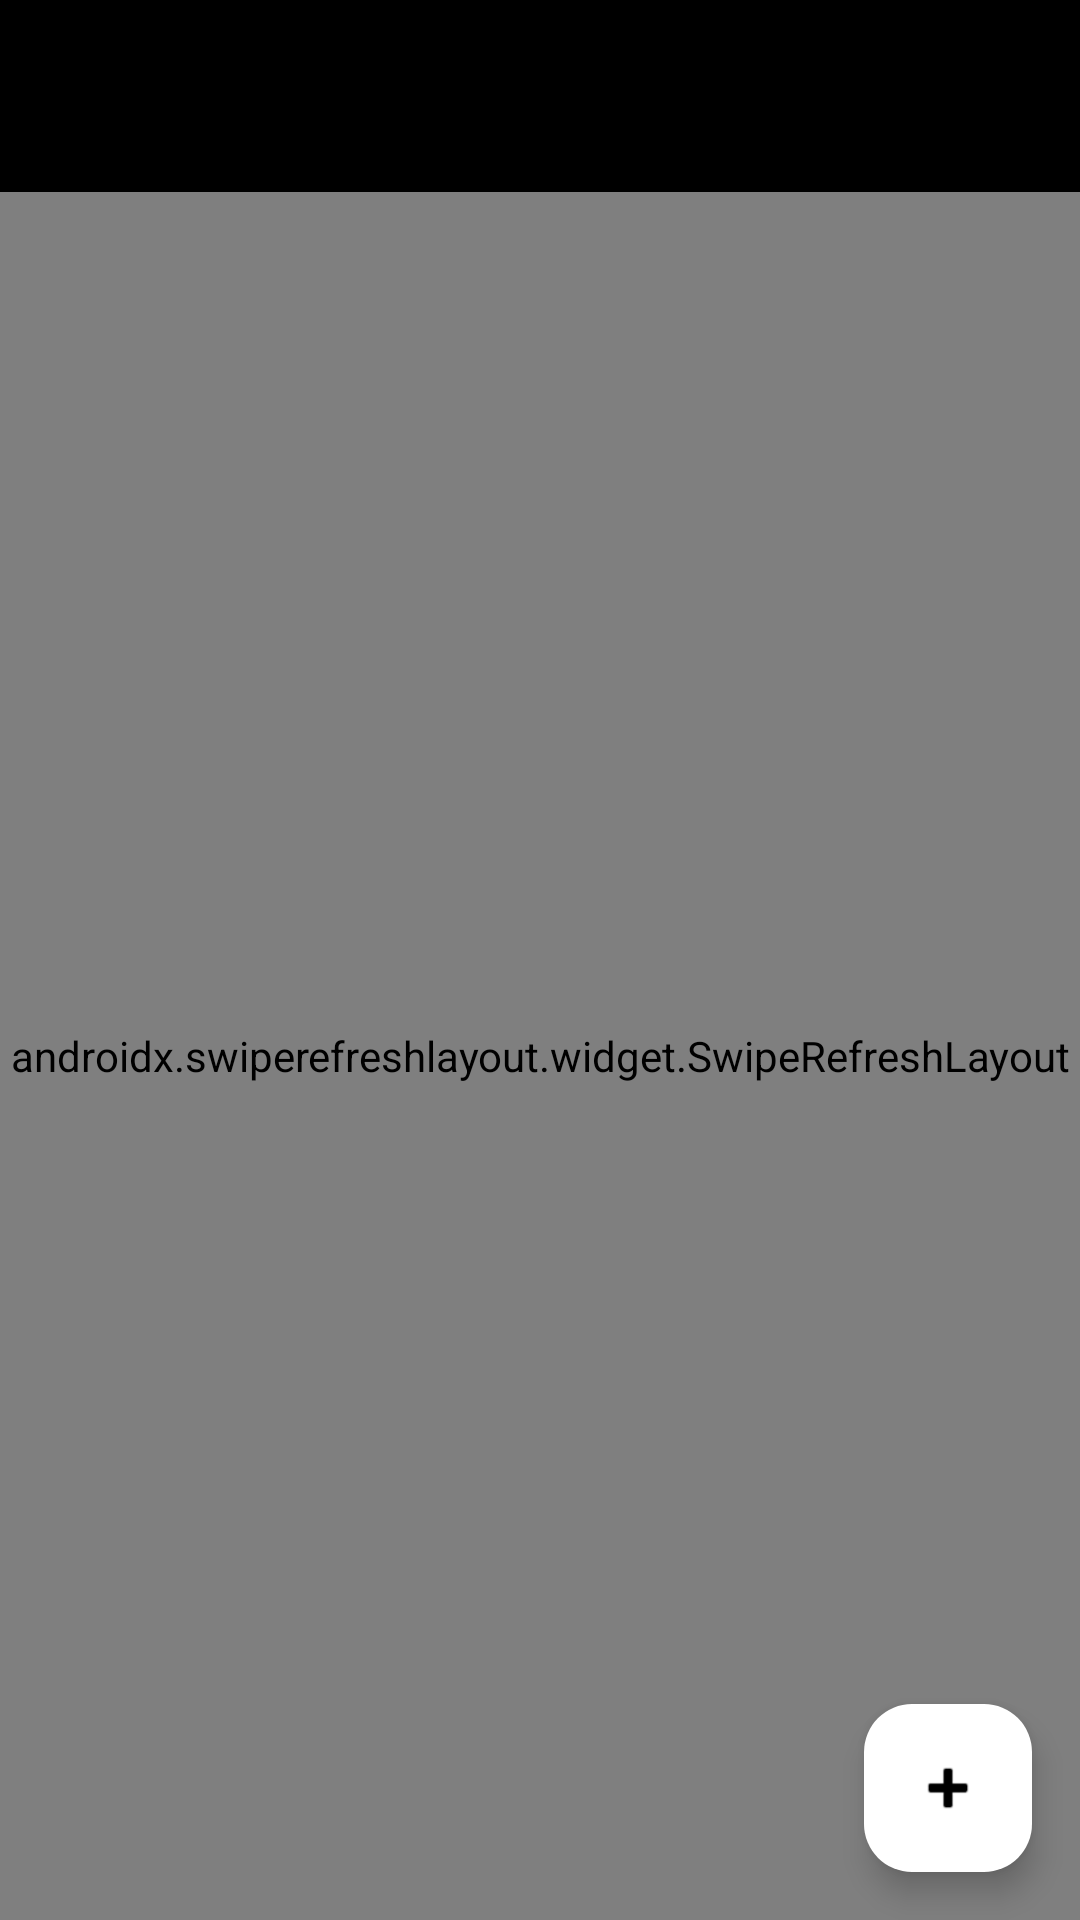

Screen size 1080*1920. Icon name, then its center in pixels as (x,y):
Añadir tarea: (948,1788)
